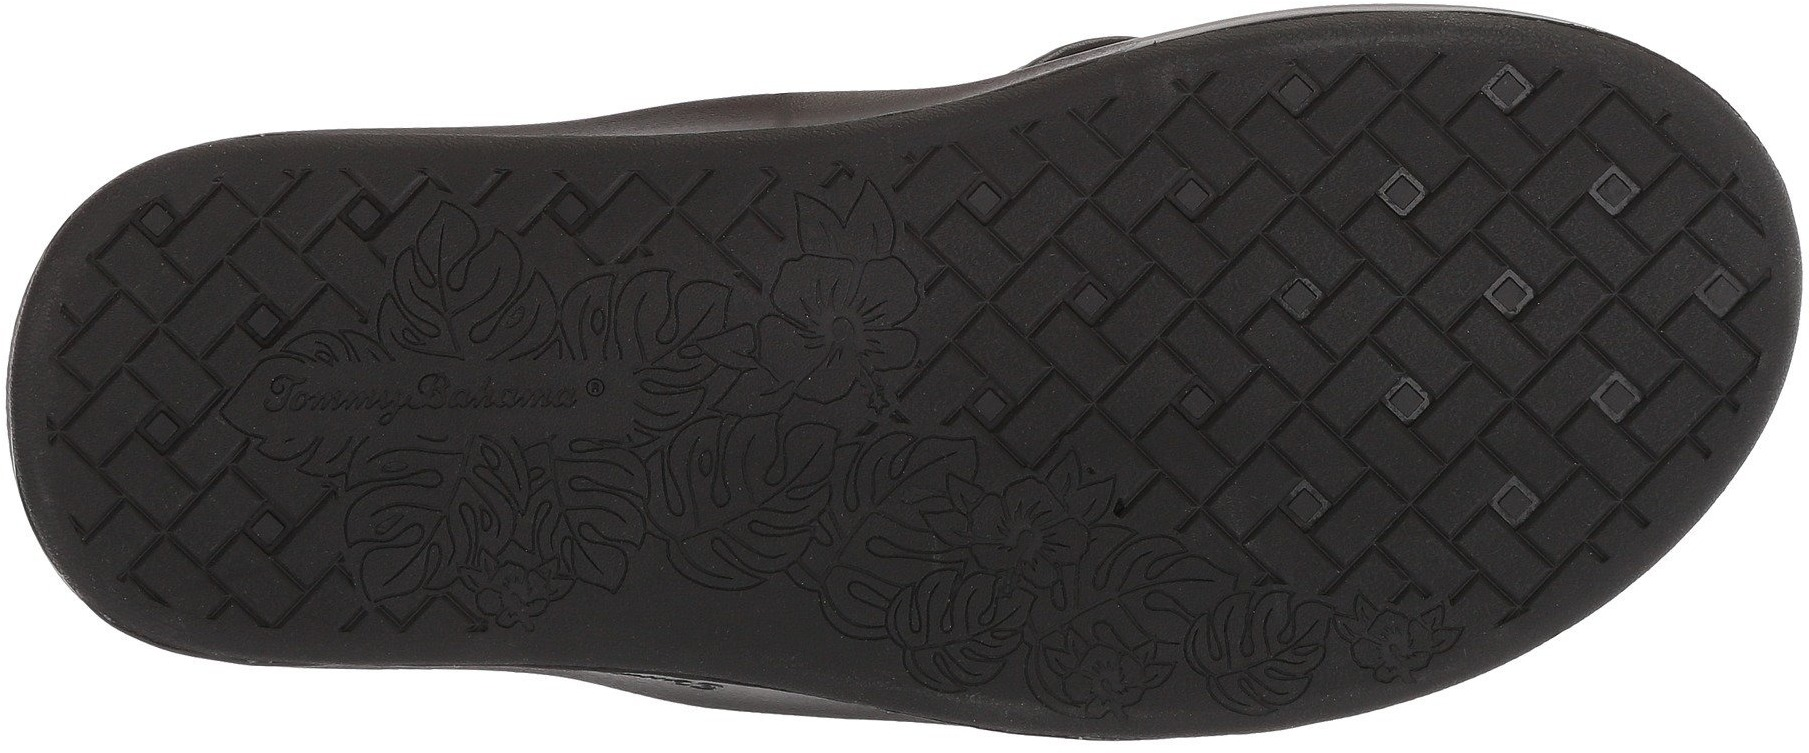quad: (913, 156, 1159, 390), (1176, 84, 1425, 313), (1410, 316, 1638, 563), (1168, 325, 1401, 540), (1435, 95, 1654, 302), (81, 431, 256, 608), (80, 244, 245, 399)
